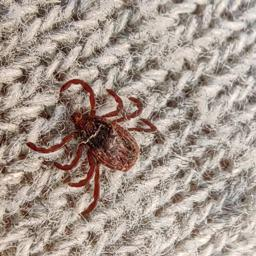Rhipicephalus sanguineus: (27, 78, 156, 217)
